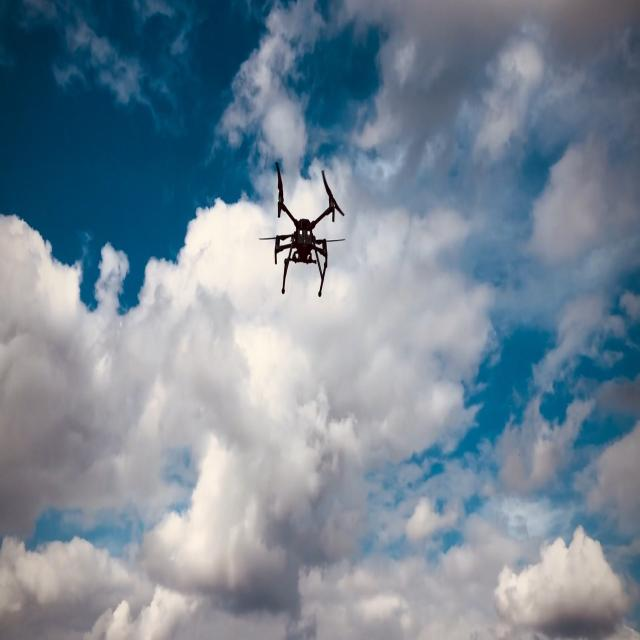drone: (259, 160, 345, 297)
